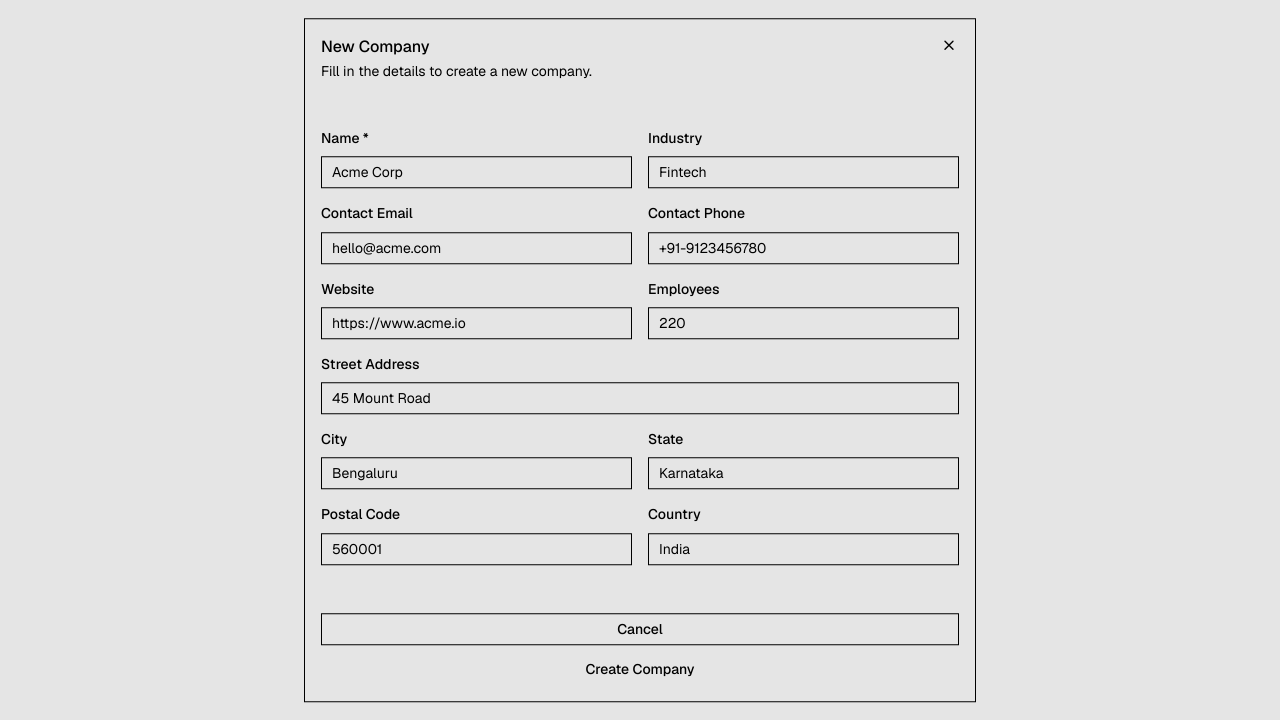
CompanyFormSheet (create) › shows create copy and validates the name
This screenshot has width=1280, height=720.
Expected: the heading "New Company" is shown, [321,36,430,57]
Click the button "Create Company" at x=640, y=669, box [321,653,959,685]
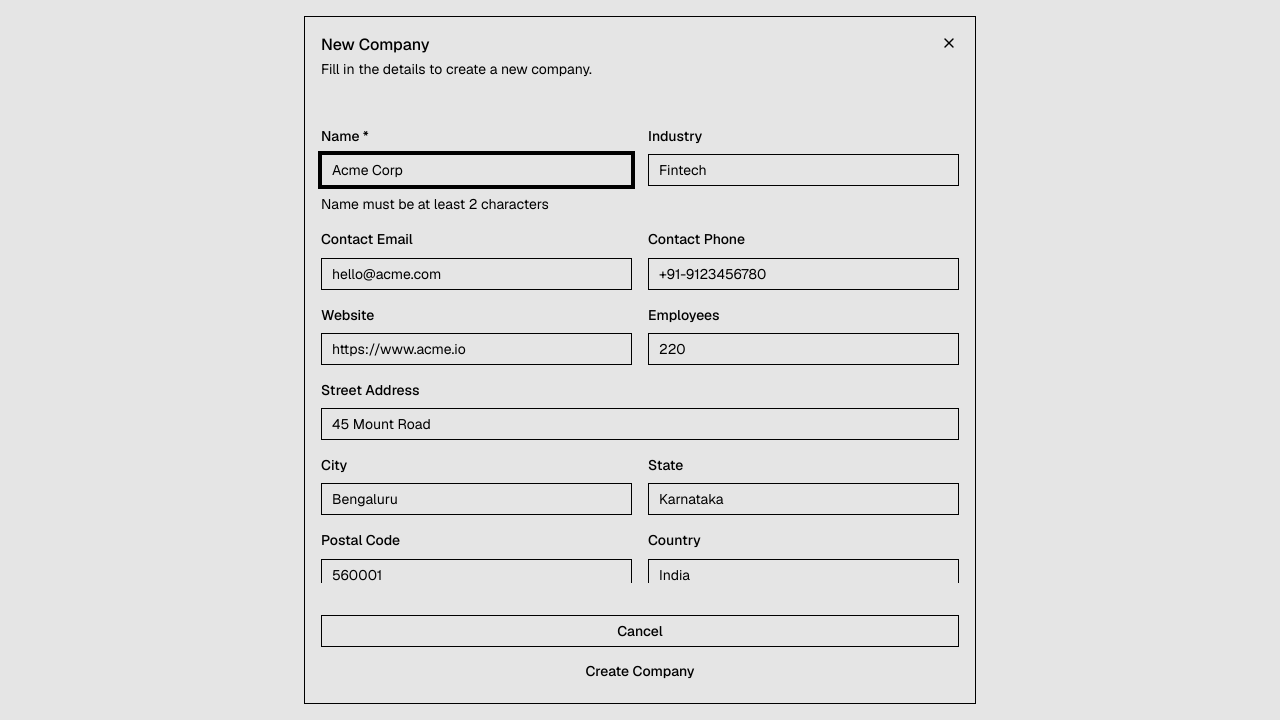
Expected: the text "Name must be at least 2 characters" is shown, [321,195,549,213]
